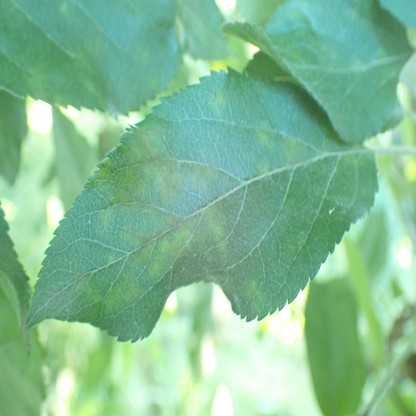powdery_mildew: (27, 284, 72, 325)
scab: (101, 123, 181, 201), (136, 214, 201, 275), (104, 282, 141, 317), (282, 134, 306, 170), (206, 206, 225, 249), (187, 164, 219, 186), (243, 283, 267, 312), (75, 280, 100, 303), (82, 35, 100, 59), (257, 125, 272, 144), (27, 76, 43, 89), (60, 1, 66, 13)
